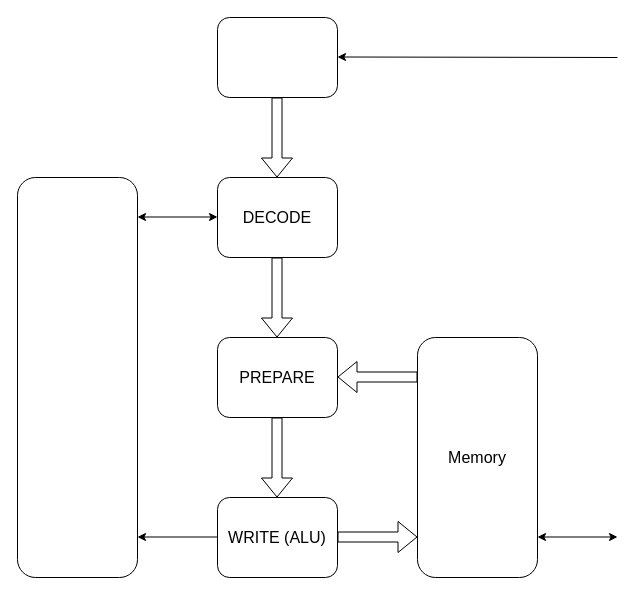
Some shapes in this 644 by 595 pixel diagram are drawn without their labels. The shapes that lost their labels are listed below. From the top down, each one's centre as x and y in pixels, then its label:
At (x=277, y=57): "FETCH".
At (x=77, y=377): "Registers".
